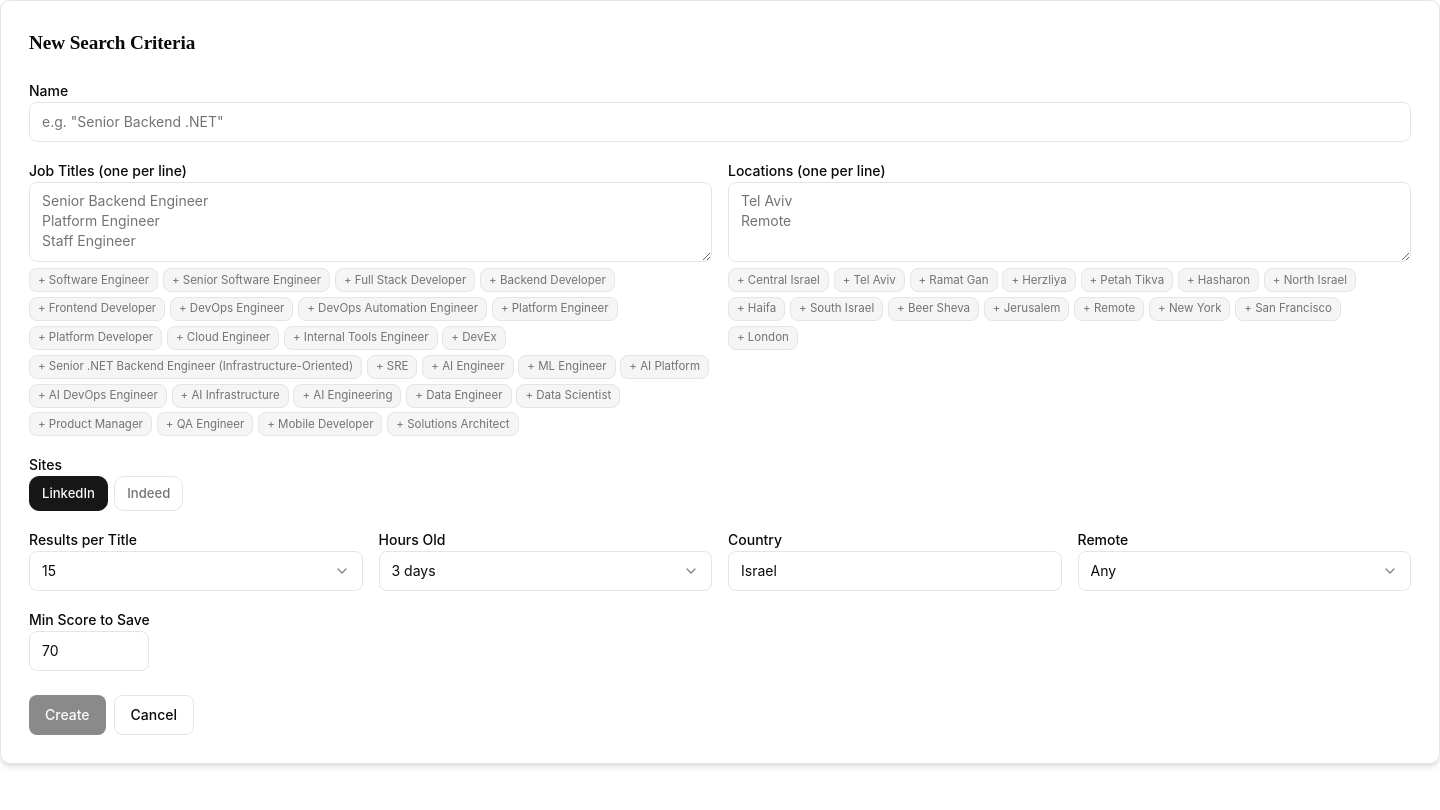
Test: CriteriaForm - Suggestion Chips › clicking a job title suggestion adds it to the textarea
The image size is (1440, 810).
Click the button "+ Software Engineer" at [94, 280], box x1=29 y1=268 x2=158 y2=292
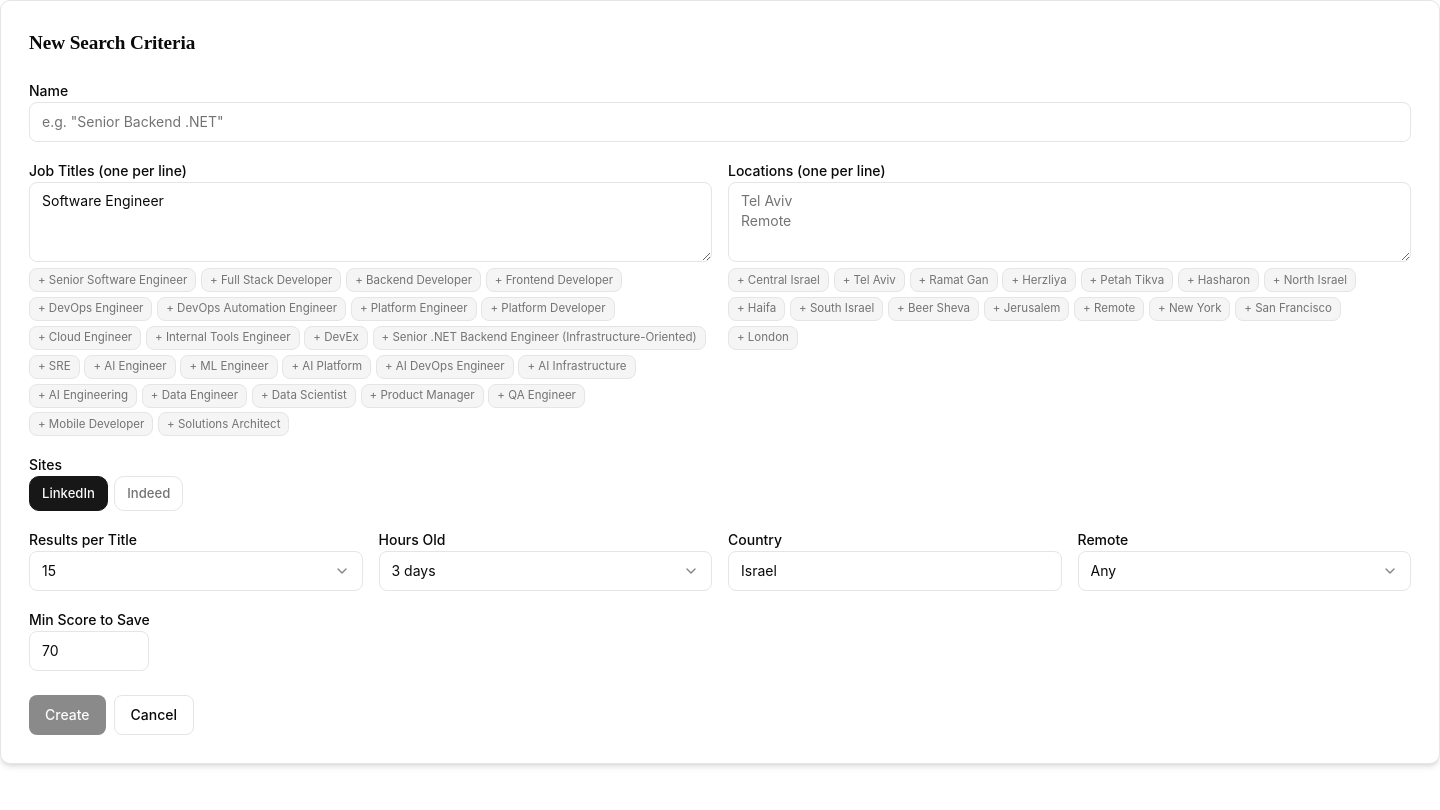
Now the text box with placeholder "Senior Backend Engineer Platform Engineer Staff Engineer" holds "Software Engineer", box x1=29 y1=182 x2=712 y2=262
